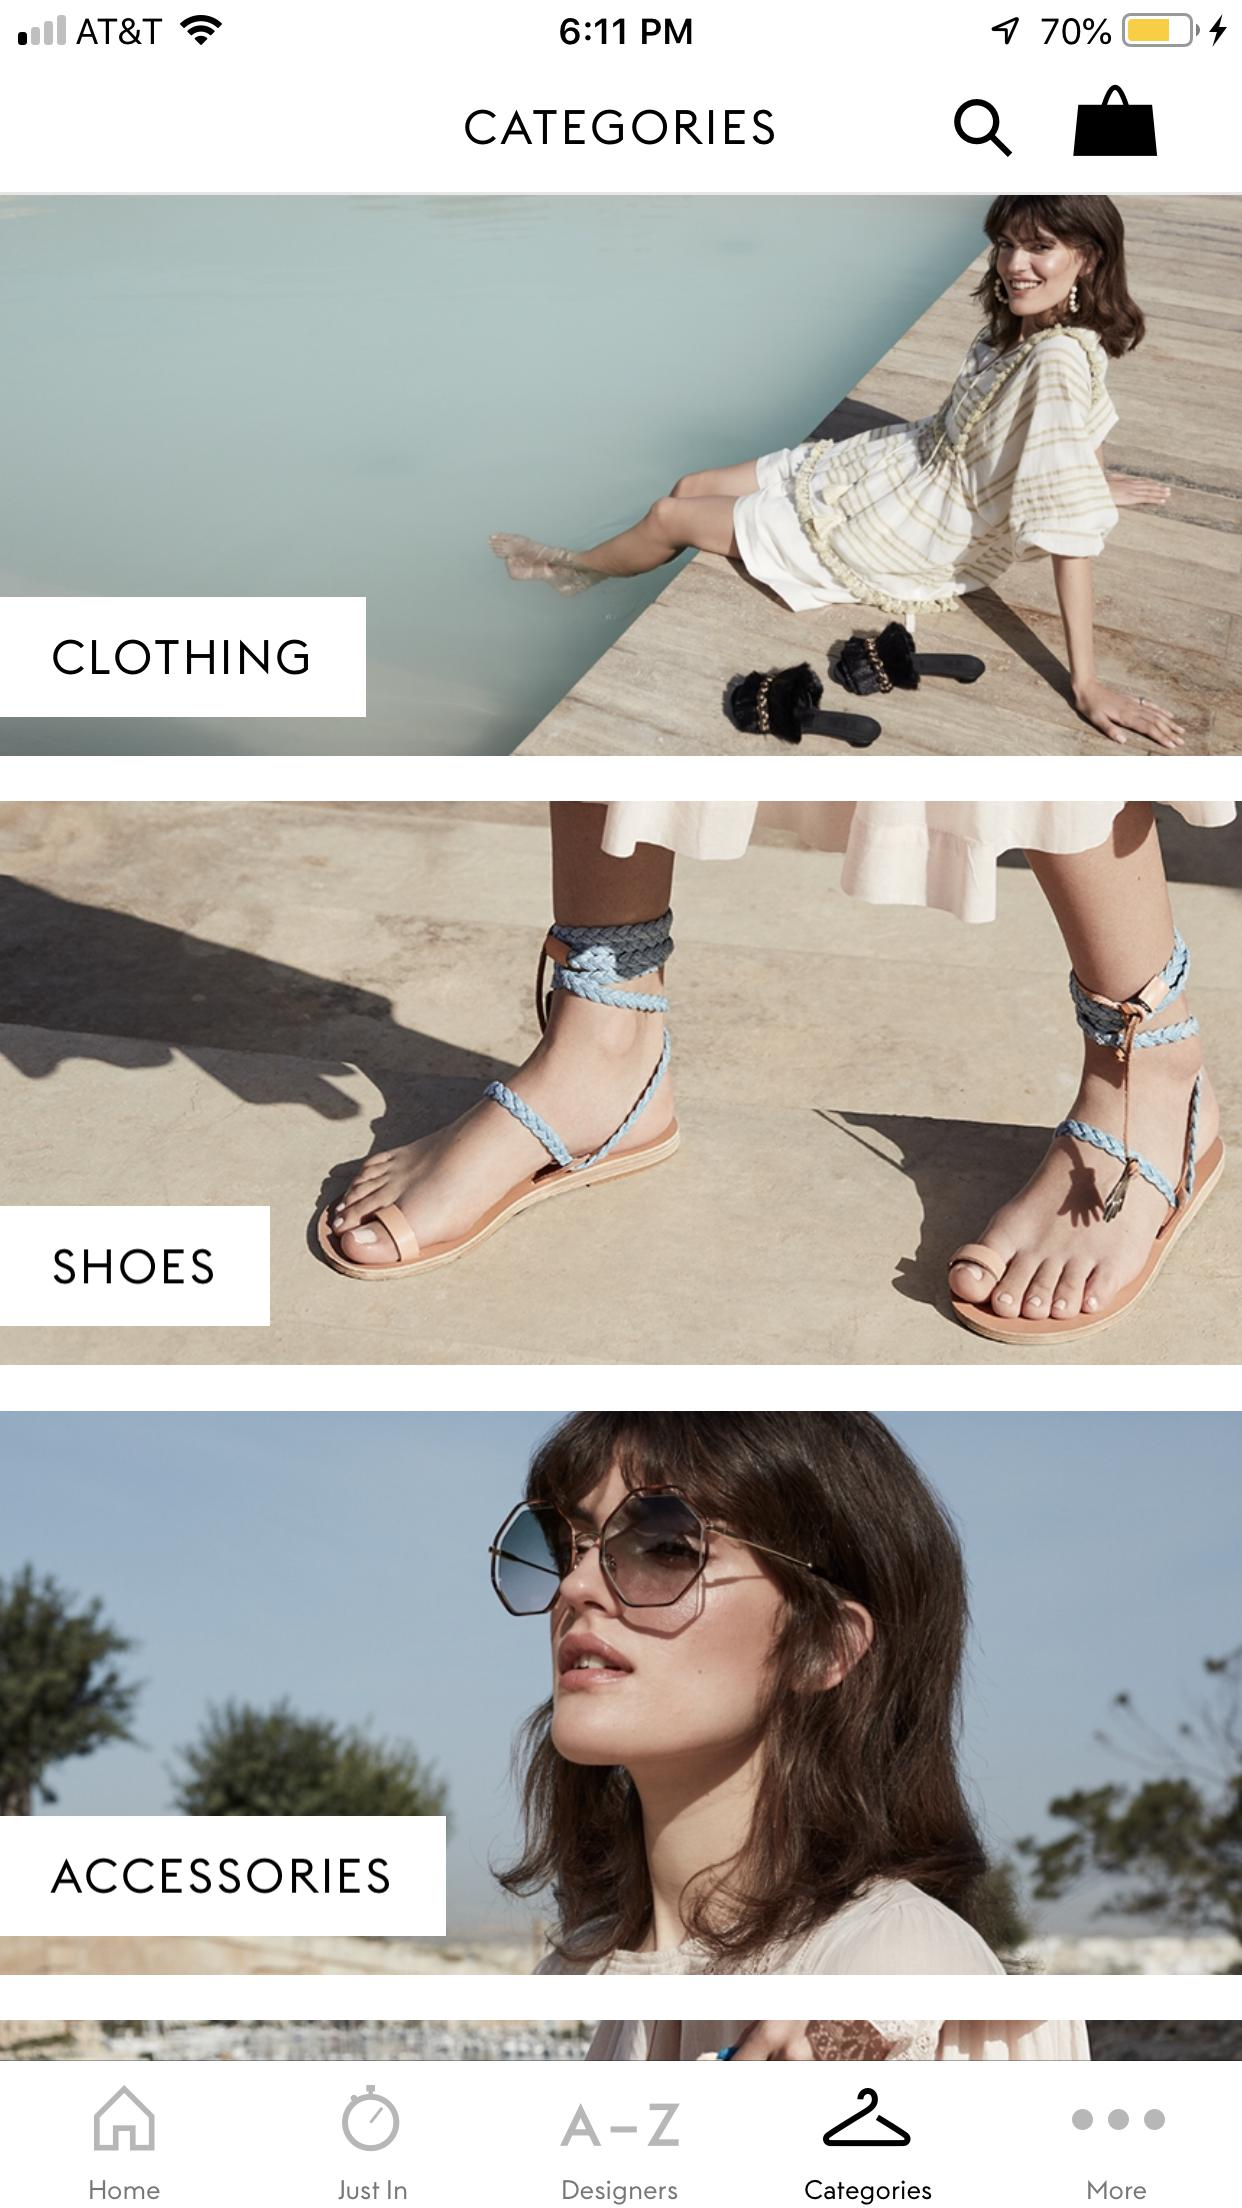Icon: (1072, 85, 1159, 158), (558, 2102, 679, 2147), (822, 2087, 911, 2147), (94, 2087, 158, 2152), (341, 2084, 400, 2152), (952, 99, 1015, 159), (1071, 2108, 1165, 2132)
Image: (2, 801, 1242, 1365), (2, 1412, 1242, 1974), (2, 196, 1242, 757), (2, 2020, 1242, 2059)
Text: (49, 1858, 391, 1896), (466, 108, 776, 146), (52, 638, 309, 676), (52, 1247, 212, 1284), (804, 2179, 933, 2205), (563, 2179, 679, 2205), (338, 2178, 408, 2200), (89, 2179, 161, 2200), (1087, 2179, 1146, 2200)
UpperTaskBar: (2, 2, 1242, 52)
